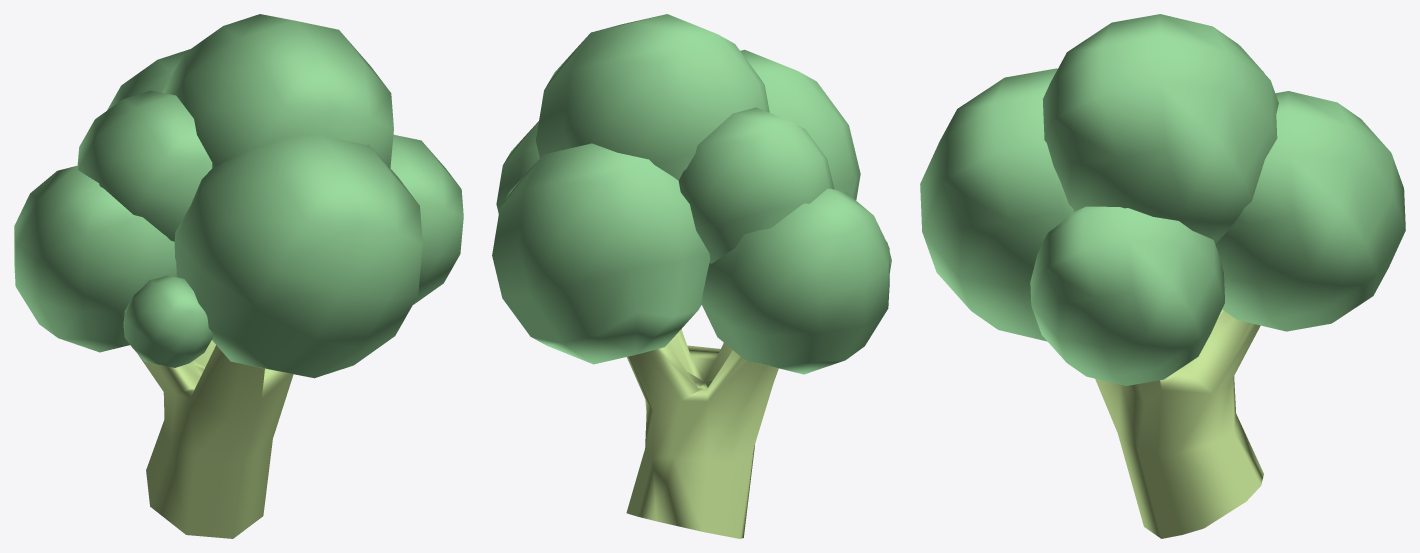
The model's file is Broccoli.fbx.
3 renders of one model, left to right at view 1: azimuth 30°, elevation 25°; view 2: azimuth 150°, elevation 25°; view 3: azimuth 270°, elevation 25°, orthographic. The views are drawn at different scales.
Visible parts, largest first — view 1: Broccoli; view 2: Broccoli; view 3: Broccoli.
Part boxes in pixels (x1,y1,x2,y2): Broccoli: (14,14,463,538); Broccoli: (492,14,891,538); Broccoli: (920,14,1405,538).
Size of the model in its own units: 90.93 by 109 by 91.18.
